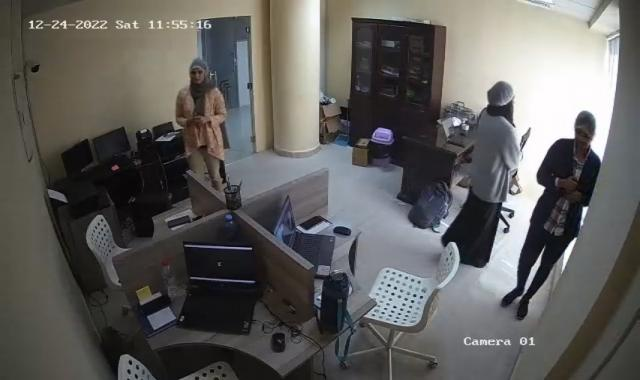hairnet: (488, 80, 514, 117), (572, 110, 597, 148), (188, 59, 208, 86)
